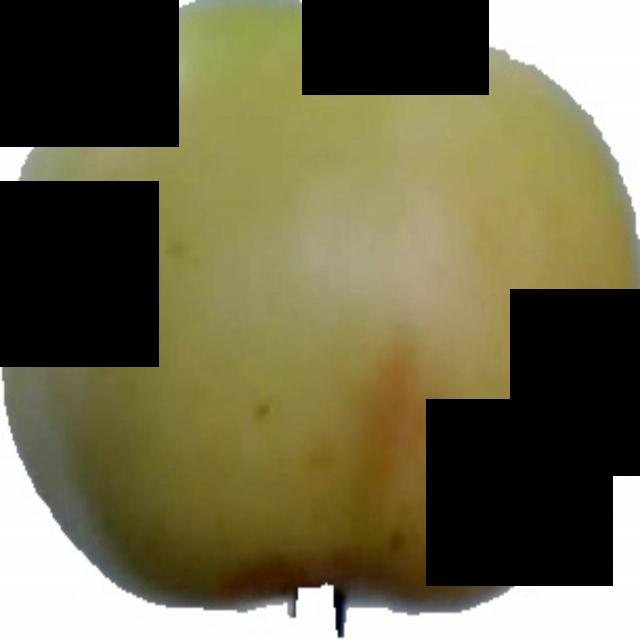apple: (0, 0, 638, 637)
